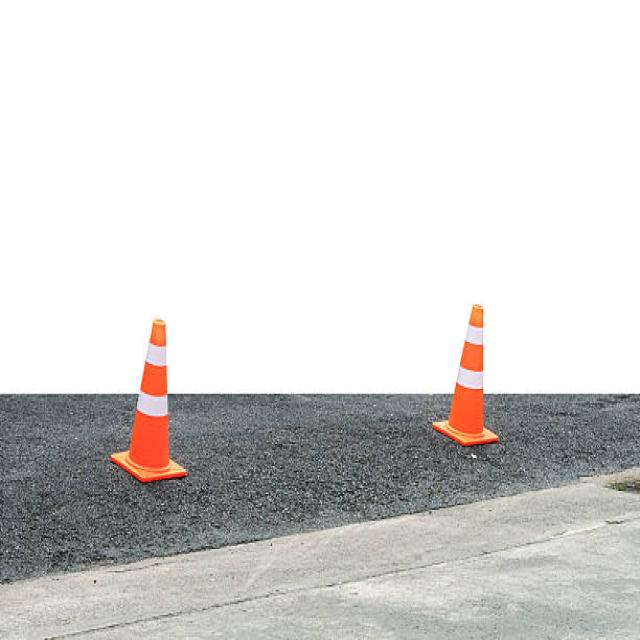Traffic Cone: (103, 294, 199, 512), (425, 272, 509, 467)
